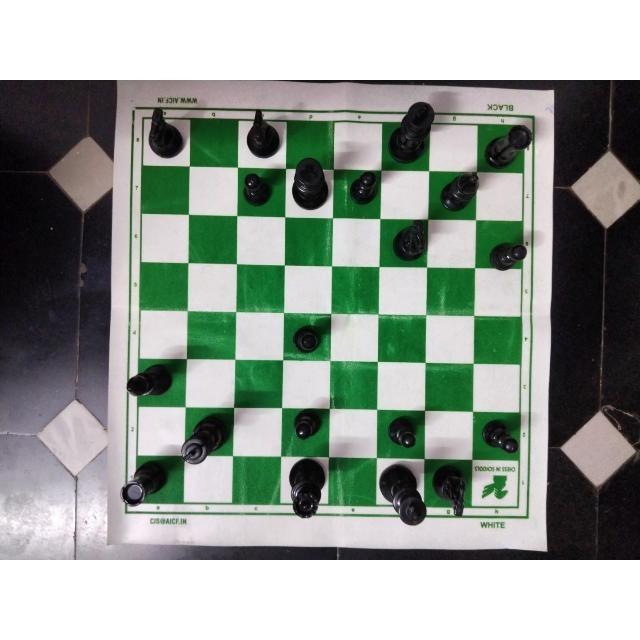black-bishop: (437, 171, 485, 215), (127, 360, 175, 404)
black-king: (386, 96, 436, 164), (376, 462, 428, 526), (177, 411, 233, 465), (288, 155, 332, 214)
black-knight: (143, 106, 189, 163), (428, 459, 468, 517), (379, 218, 428, 265), (238, 108, 282, 160)
black-pawn: (483, 235, 531, 274), (382, 412, 423, 456), (479, 418, 520, 458), (284, 407, 326, 444), (238, 170, 277, 209), (286, 319, 324, 356), (348, 169, 381, 209)
black-queen: (285, 456, 331, 523)
black-rook: (117, 455, 173, 509), (484, 121, 536, 172)
